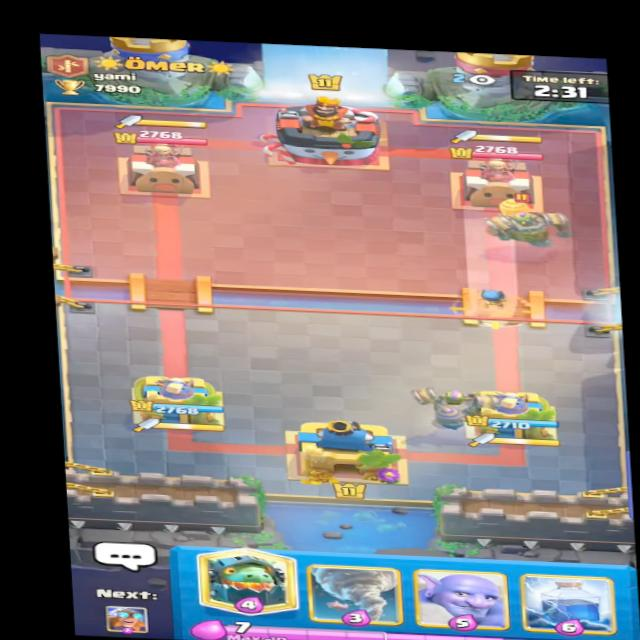goblin-machine: (476, 189, 576, 262)
